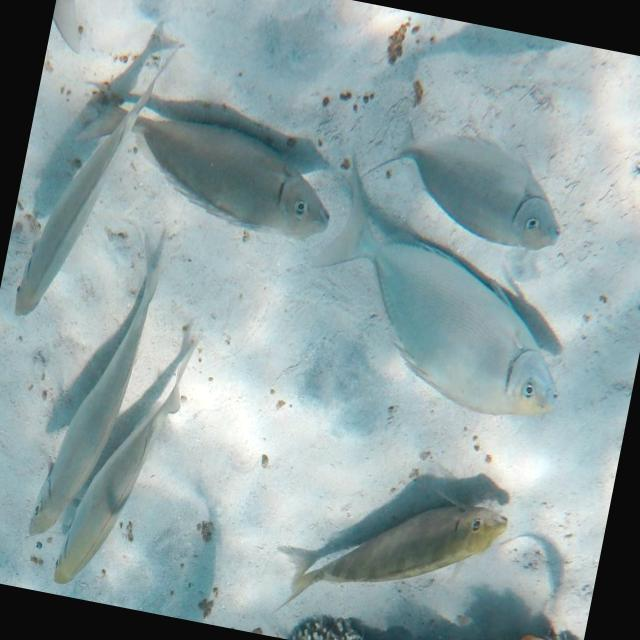Sokar Baligi: (0, 24, 175, 344), (260, 446, 517, 640), (353, 76, 590, 270)
